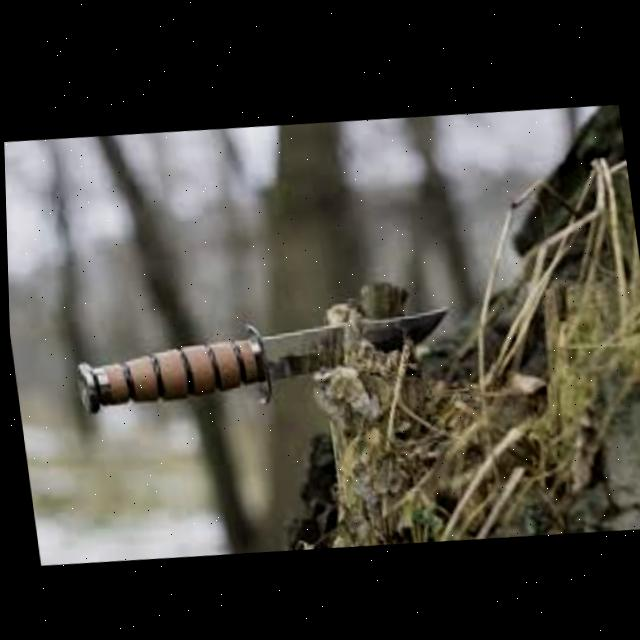knife: (67, 286, 460, 428)
